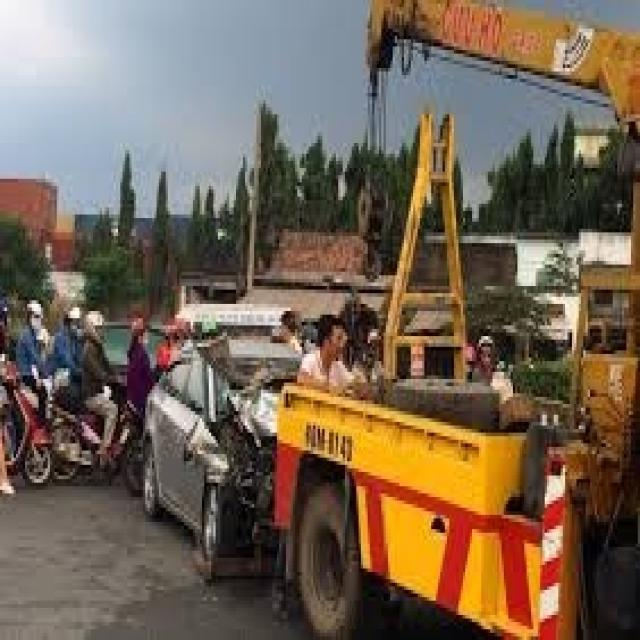accident: (172, 318, 334, 562)
